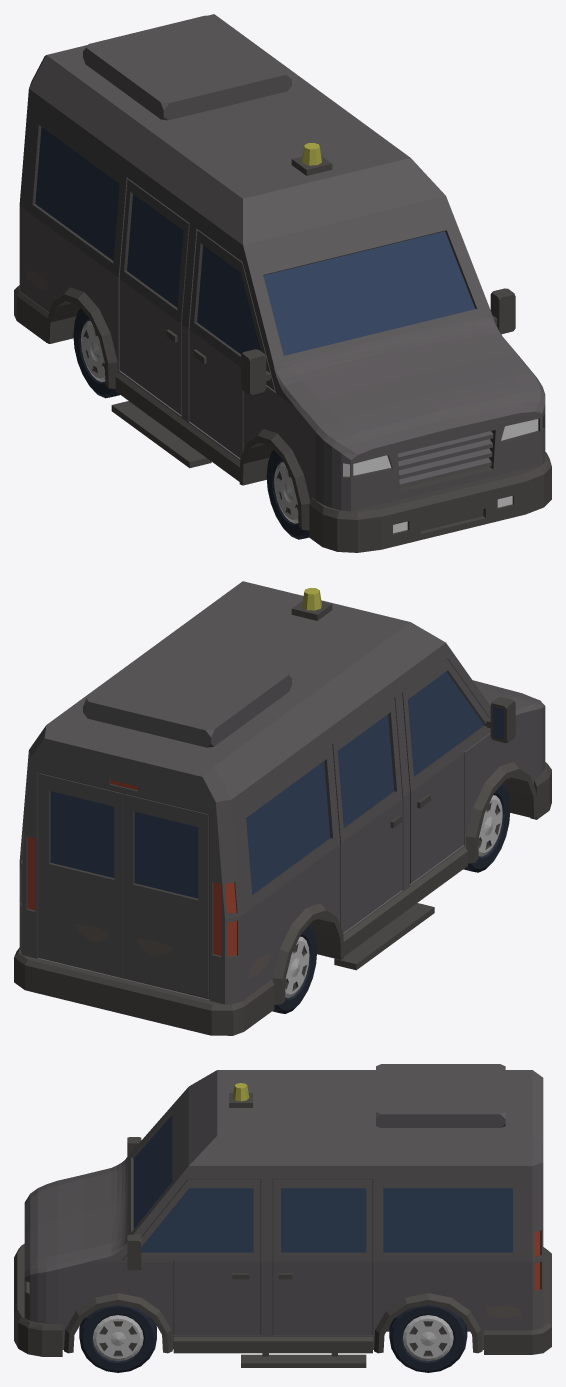
File: crew-minivan-2ed5f1.glb
3 renders of one model, top to bottom at view 1: azimuth 30°, elevation 25°; view 2: azimuth 150°, elevation 25°; view 3: azimuth 270°, elevation 25°, orthographic. The views are drawn at different scales.
Visible parts, largest first — view 1: body, door-sr-mesh, door-fr-mesh, rr-mesh, fr-mesh, door-fl-mesh; view 2: body, door-rl-mesh, door-rr-mesh, door-fr-mesh, door-sr-mesh, fr-mesh, rr-mesh; view 3: body, door-sl-mesh, door-fl-mesh, rl-mesh, fl-mesh.
Boxes of the visible parts, x1,y1,x2,y2 form: body: (14,14,551,552); door-sr-mesh: (119,179,189,414); door-fr-mesh: (189,230,275,458); rr-mesh: (73,308,119,398); fr-mesh: (266,450,309,539); door-fl-mesh: (490,288,515,334); body: (14,581,551,1035); door-rl-mesh: (39,773,124,977); door-rr-mesh: (124,794,208,998); door-fr-mesh: (402,659,515,883); door-sr-mesh: (332,698,402,932); fr-mesh: (463,783,510,872); rr-mesh: (272,924,317,1013); body: (14,1064,551,1367); door-sl-mesh: (273,1179,371,1334); door-fl-mesh: (123,1179,259,1334); rl-mesh: (389,1304,467,1372); fl-mesh: (79,1304,156,1372).
Size of the model in its own units: 2.28 by 2.55 by 4.98.
